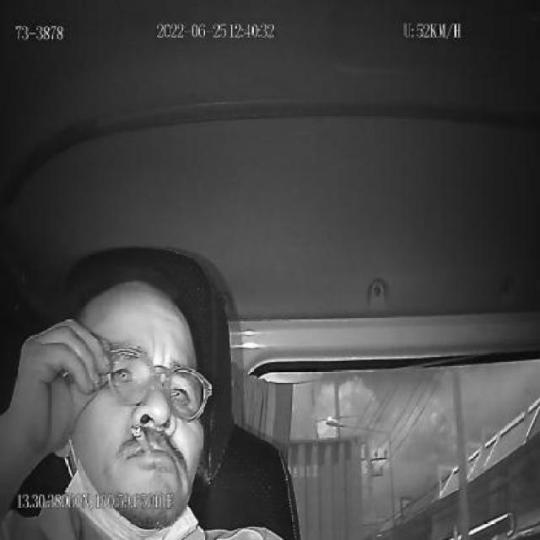smoking: (130, 422, 152, 454)
